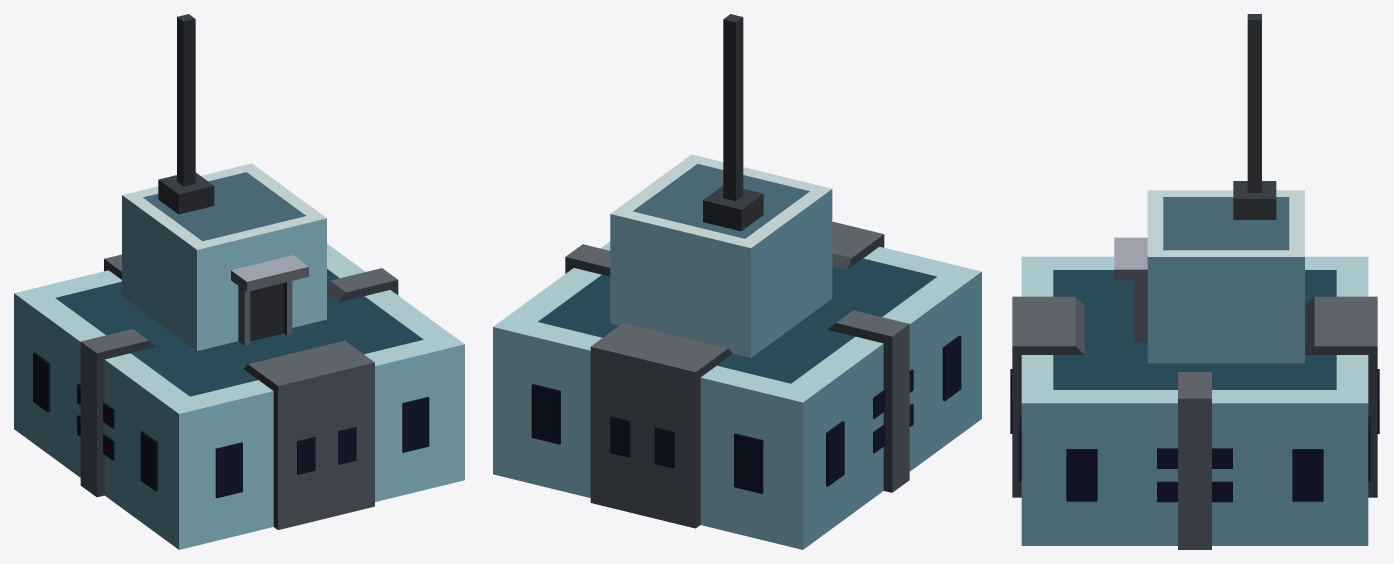
Rendered from TB_CITY_Skysc_Q_Top_Blue.FBX.
3 renders of one model, left to right at view 1: azimuth 30°, elevation 25°; view 2: azimuth 150°, elevation 25°; view 3: azimuth 270°, elevation 25°, orthographic. The views are drawn at different scales.
Visible parts, largest first — view 1: TB_CITY_Skysc_Q_Top_Blue; view 2: TB_CITY_Skysc_Q_Top_Blue; view 3: TB_CITY_Skysc_Q_Top_Blue.
Boxes of the visible parts, box(x1,y1,x2,y2) form: TB_CITY_Skysc_Q_Top_Blue: box(14, 14, 464, 549); TB_CITY_Skysc_Q_Top_Blue: box(493, 14, 981, 549); TB_CITY_Skysc_Q_Top_Blue: box(1010, 14, 1379, 549).
Size of the model in its own units: 11.6 by 15.52 by 11.73.
